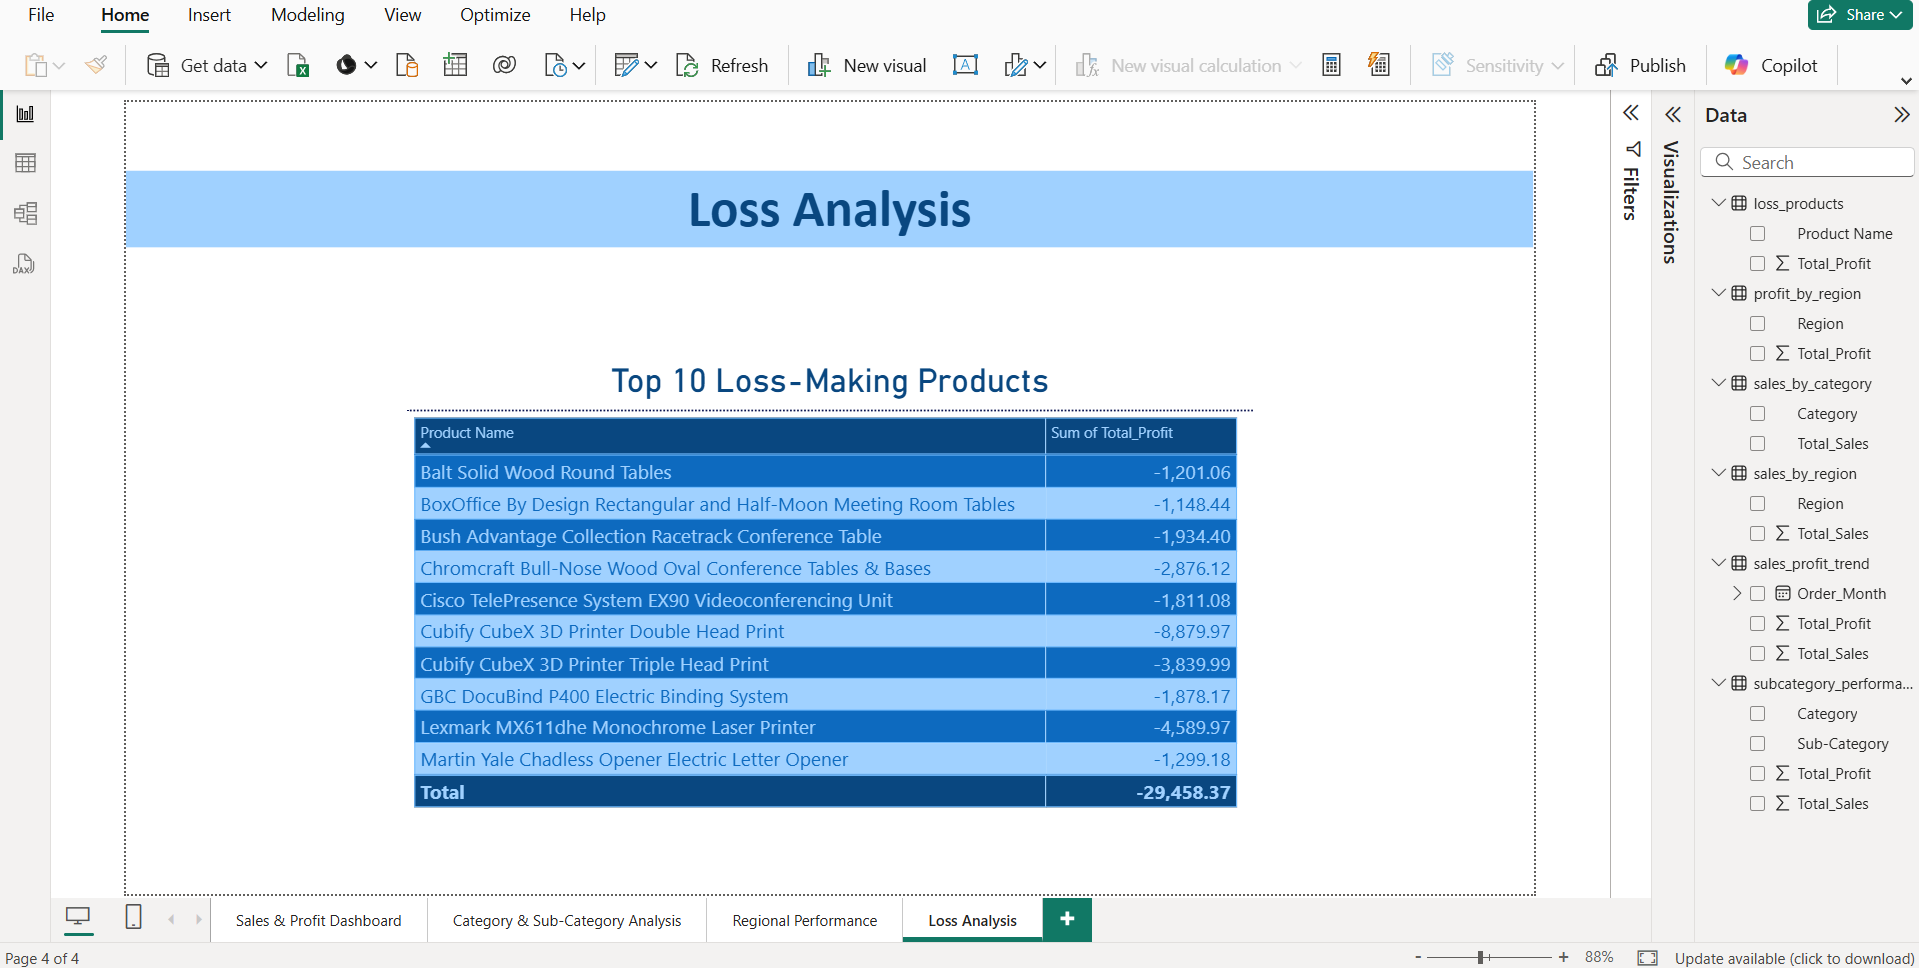

The page's visual inventory and layout, read from the dashboard file:
{"tool":"powerbi","page":{"name":"Loss Analysis","canvas":[1280,720],"ordinal":3},"visuals":[{"type":"tableEx","title":"Top 10 Loss-Making Products","fields":{"Values":["loss_products.Product Name","Sum(loss_products.Total_Profit)"]},"box":[256.2,220.5,768.5,447.9],"z":0},{"type":"textbox","box":[0,62.5,1279.5,69.3],"z":1000}]}

Visuals, with their boxes on the page's 1280x720 design canvas (x1, y1, x2, y2). These are canvas units, not pixel positions in the 1919x968 screenshot, which may show the page scaled, cropped or inside an application window:
"Top 10 Loss-Making Products" tableEx: [256,220,1025,668]
textbox: [0,62,1280,132]
